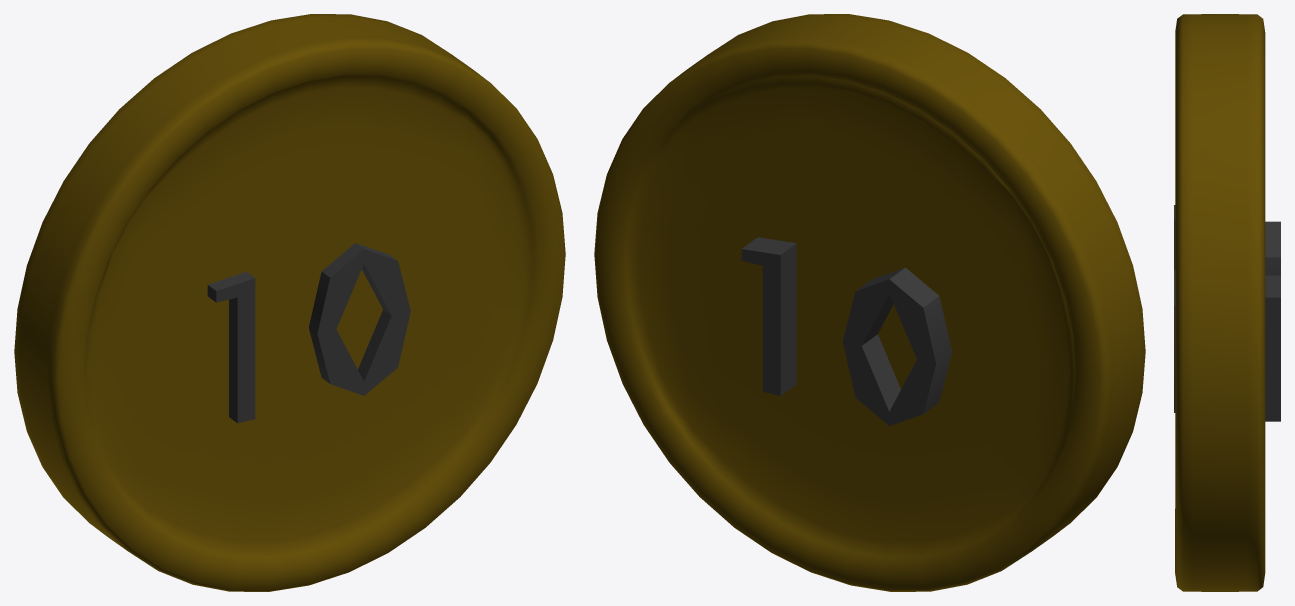
File: bronze.fbx
3 views of the same model, side by side, from view 1: azimuth 30°, elevation 25°; view 2: azimuth 150°, elevation 25°; view 3: azimuth 270°, elevation 25° (orthographic). The views are drawn at different scales.
Visible parts, largest first — view 1: Bronce; view 2: Bronce; view 3: Bronce.
Boxes of the visible parts, x1=… form: Bronce: x1=14, y1=14, x2=565, y2=591; Bronce: x1=594, y1=14, x2=1145, y2=591; Bronce: x1=1174, y1=14, x2=1280, y2=591.
Size of the model in its own units: 1.73 by 1.73 by 0.3199.
